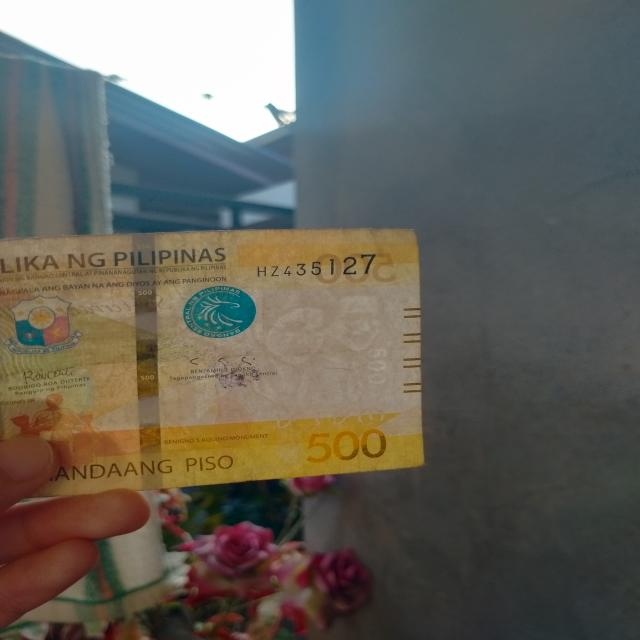security_thread: (127, 230, 165, 487)
see_through_mark: (260, 406, 392, 430)
serial_number: (250, 246, 398, 286)
value_watermark: (359, 340, 392, 392)
watermark: (246, 280, 386, 418)
